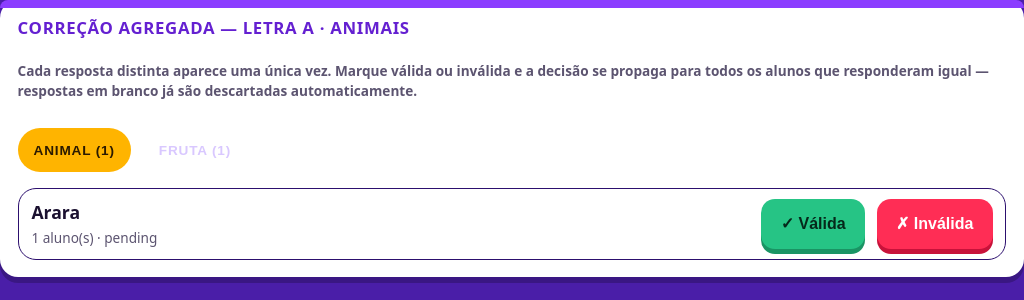
GroupedCorrectionPanel › advances to the next category with actionable groups once the current one is exhausted
Click the button "✗ Inválida": coordinates (935, 224) [877,199,993,249]
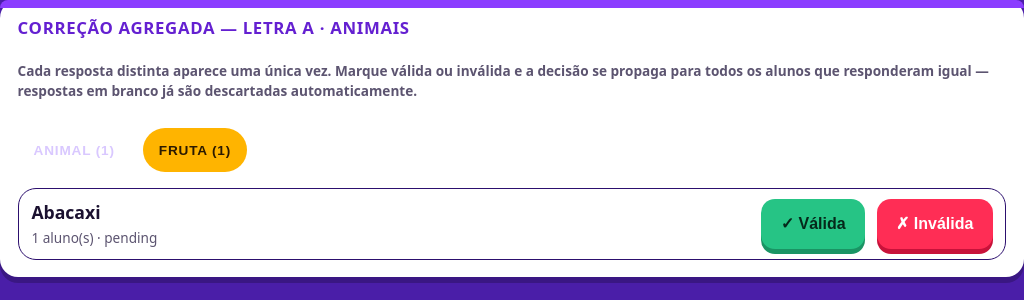
Check: the text "Abacaxi" is shown, box [31,200,100,224]
